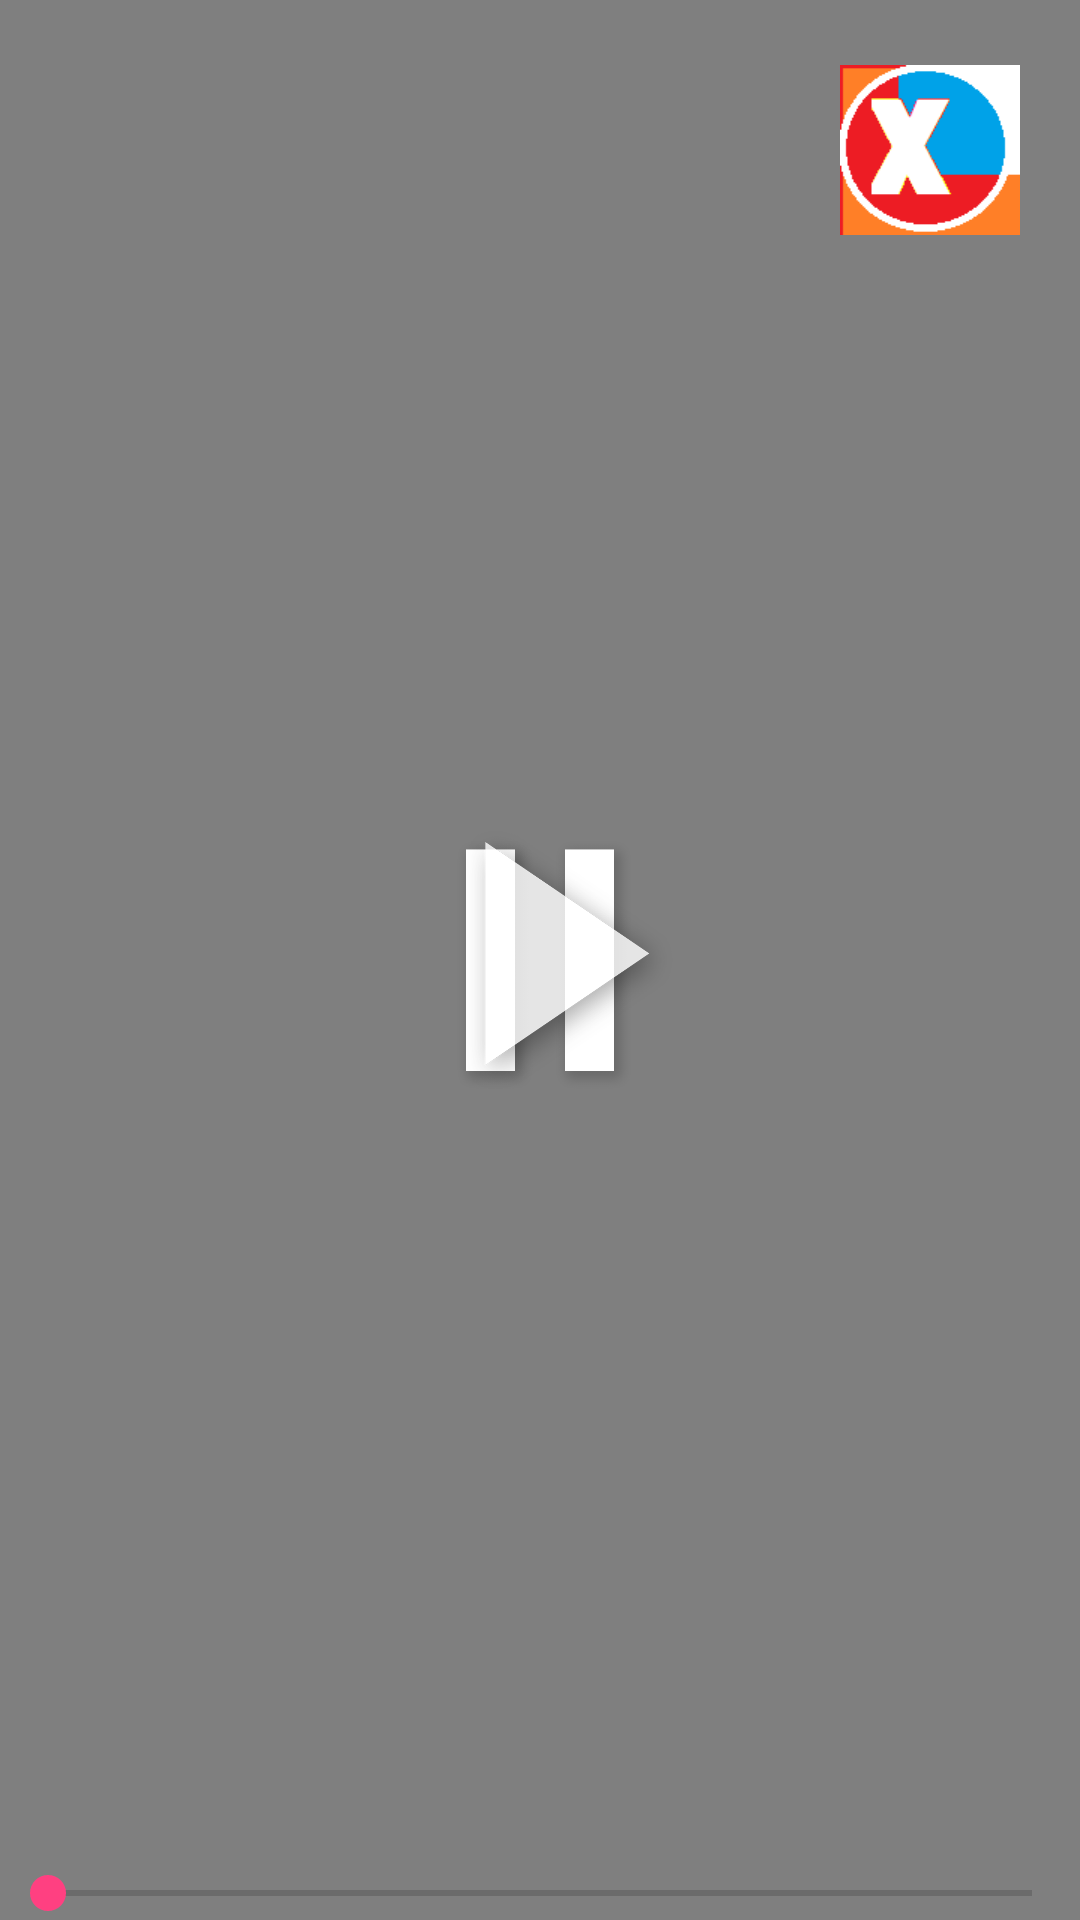

Named icons in this screenshot (1080px x 1920px) and their centers, (x,y):
exit: (930,150)
